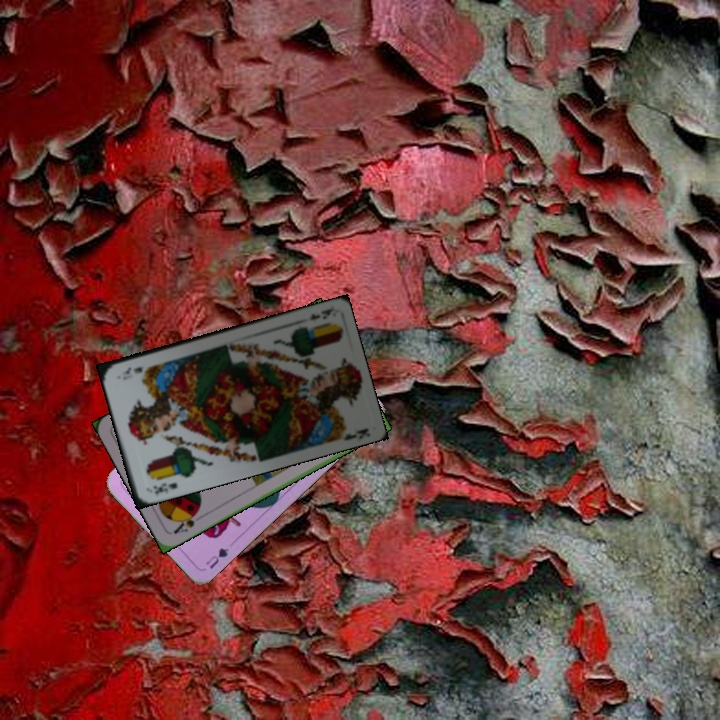EK: (149, 478, 180, 498), (305, 303, 335, 323)
GU: (202, 543, 232, 572)
SA: (169, 506, 202, 537)
